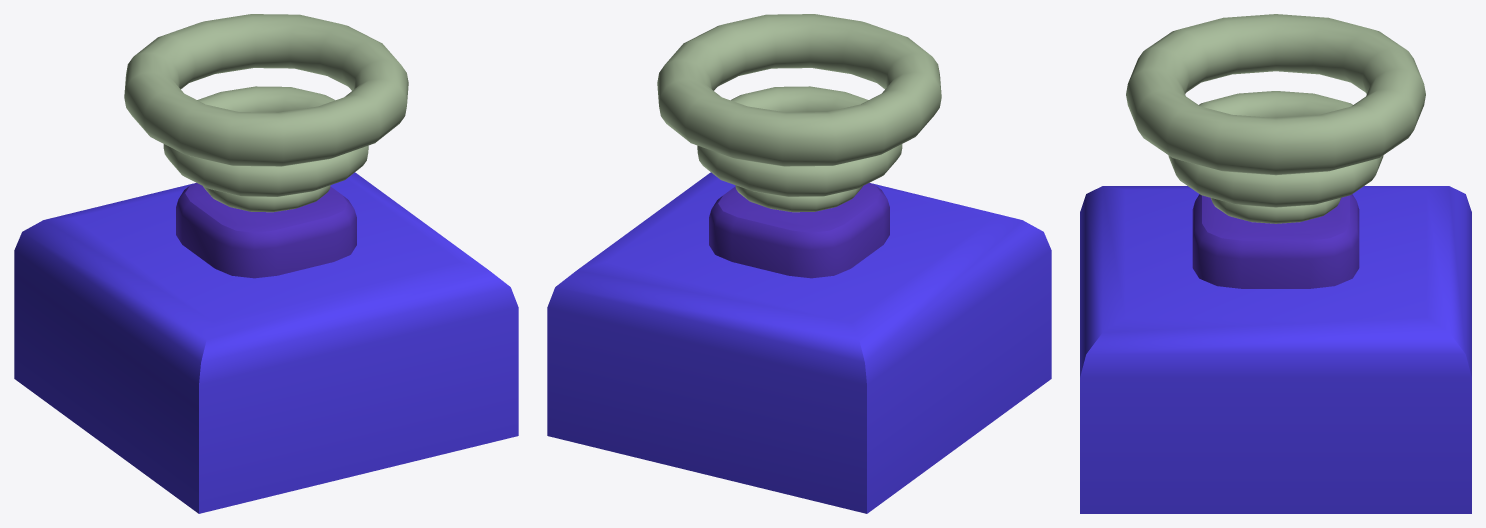
Rendered from range_upgrade.glb.
3 views of the same model, side by side, from view 1: azimuth 30°, elevation 25°; view 2: azimuth 150°, elevation 25°; view 3: azimuth 270°, elevation 25° (orthographic). The views are drawn at different scales.
Parts seen in each view (by area): view 1: Cube; view 2: Cube; view 3: Cube.
Boxes of the visible parts, left/top/right/bottom form: Cube: left=14, top=14, right=518, bottom=513; Cube: left=547, top=14, right=1051, bottom=513; Cube: left=1080, top=14, right=1471, bottom=513.
Bounding box in the file's own units: 0.4459 × 0.4549 × 0.4459.
1 material, 1 textured.
